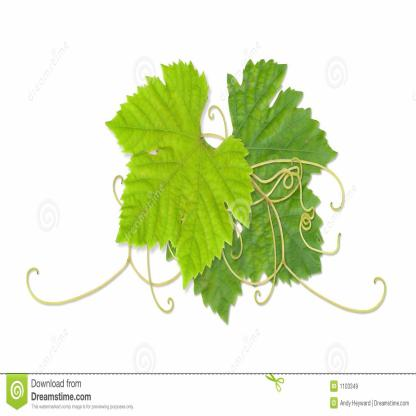grape leaf: (101, 58, 255, 291)
